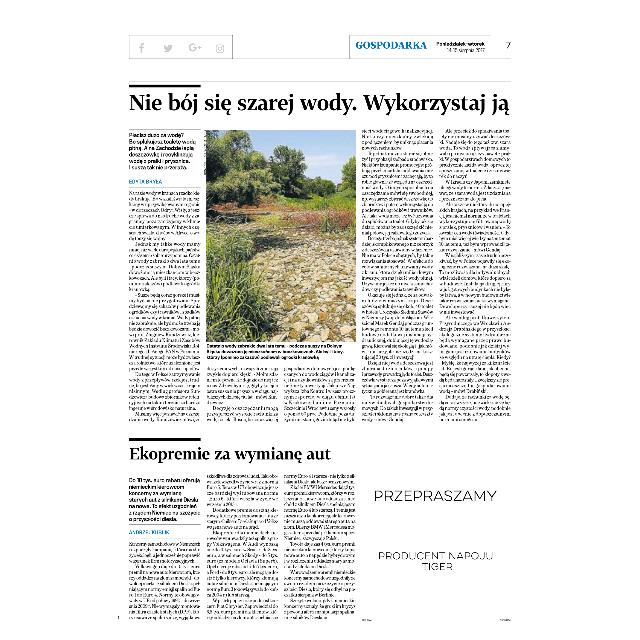article: (128, 90, 514, 427), (128, 444, 356, 624)
